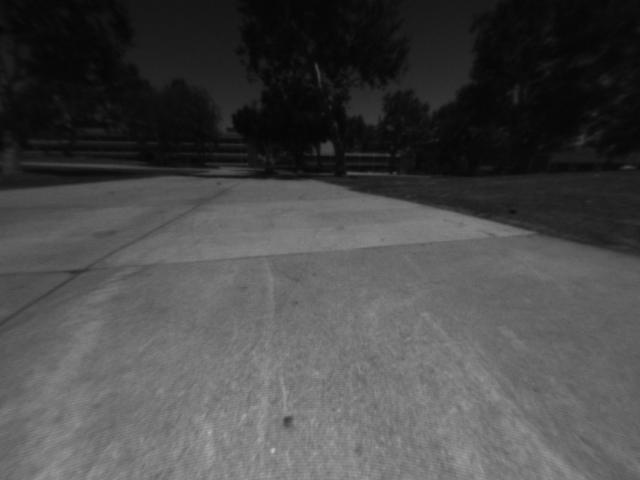dogtoy: (505, 200, 528, 222)
